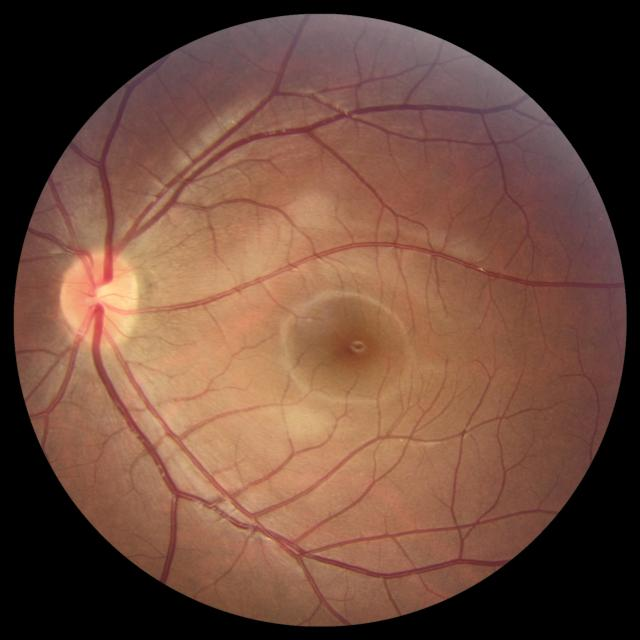OC: (90, 280, 124, 314)
OD: (60, 252, 137, 348)
